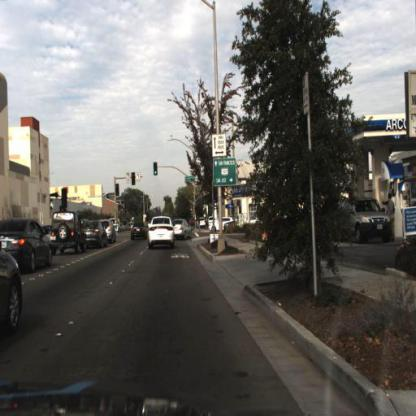car: (1, 239, 33, 346), (2, 219, 55, 274), (340, 198, 391, 245), (51, 213, 87, 255), (148, 210, 177, 249), (82, 215, 109, 253), (210, 211, 237, 235), (82, 221, 105, 249), (174, 212, 194, 243), (128, 216, 149, 244), (174, 219, 194, 244), (199, 213, 208, 231)
pedestrian: (386, 185, 399, 239)
trafficLight-Green: (153, 160, 160, 179), (153, 166, 161, 182)
trafficLight-Red: (129, 168, 136, 186), (115, 184, 120, 198)
